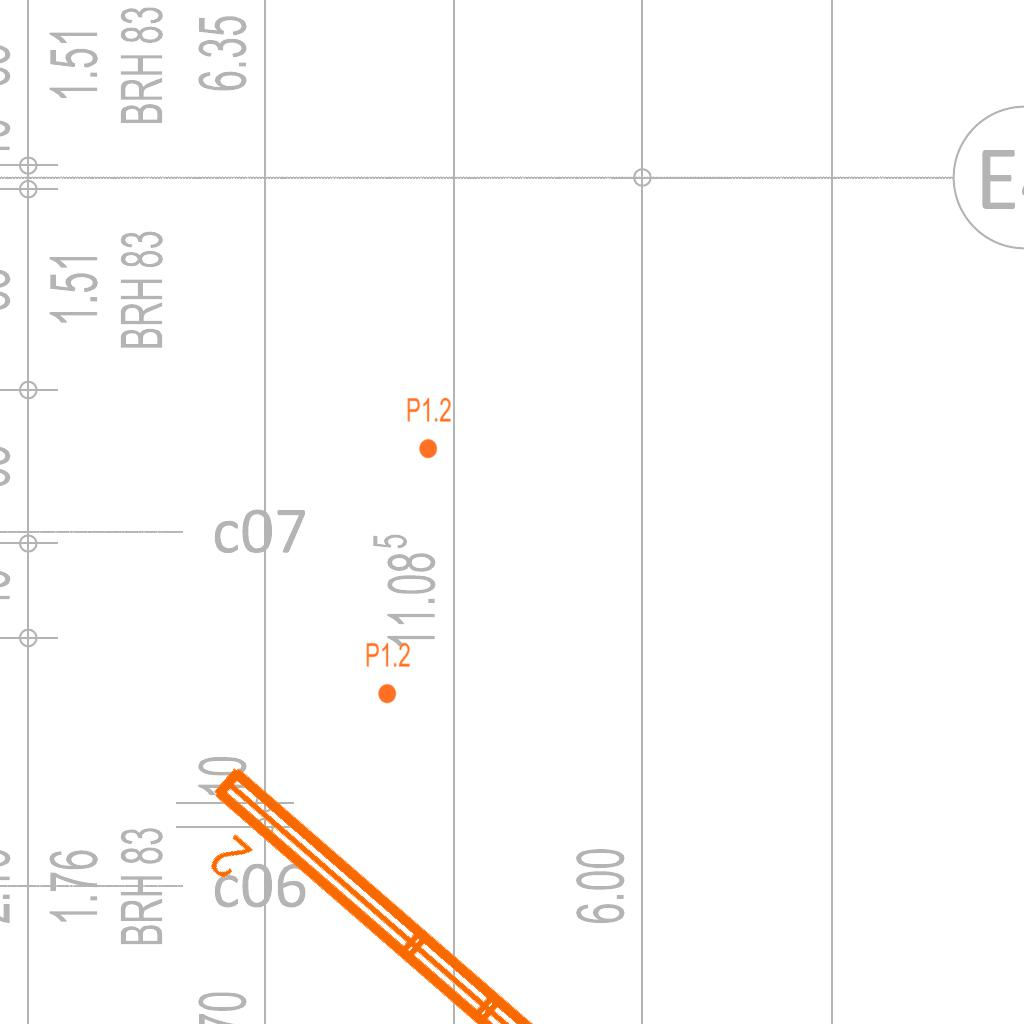Ambulanz_Pendelleuchte_LED: (164, 750, 822, 1024)
Downlight_LED_Einbauleuchten_Flur: (406, 396, 452, 460), (365, 641, 411, 705)
